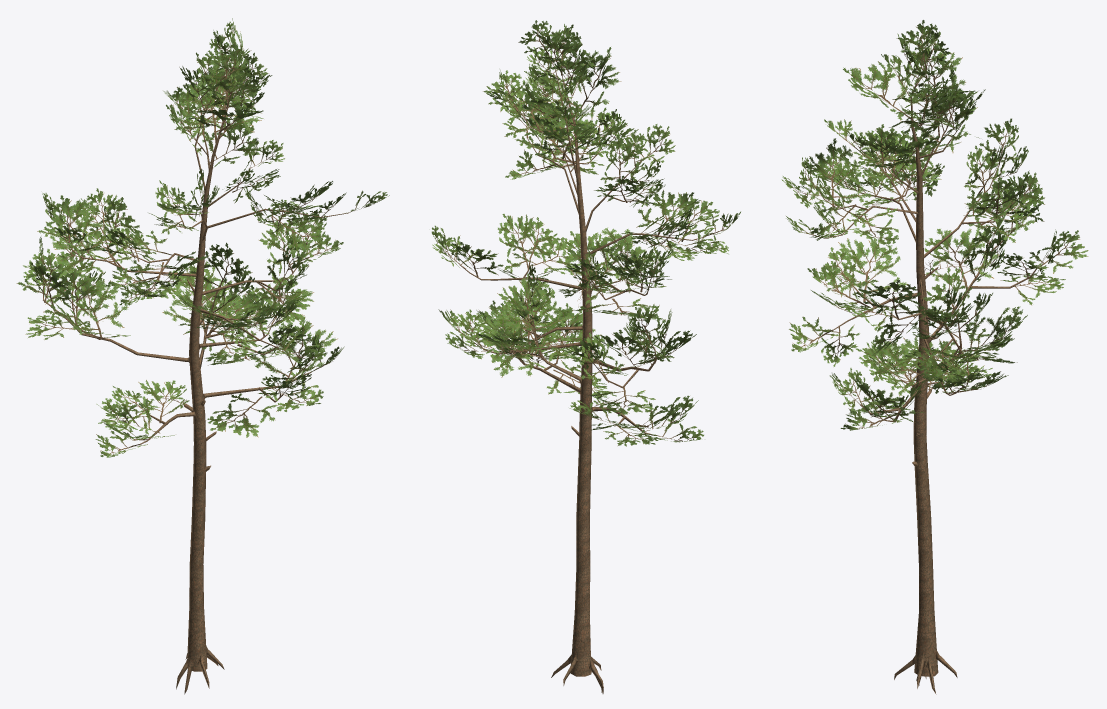
3 renders of one model, left to right at view 1: azimuth 30°, elevation 25°; view 2: azimuth 150°, elevation 25°; view 3: azimuth 270°, elevation 25°, orthographic. The views are drawn at different scales.
Visible parts, largest first — view 1: Pine_big_3_LOD2_Bark_Mat_0; view 2: Pine_big_3_LOD2_Bark_Mat_0; view 3: Pine_big_3_LOD2_Bark_Mat_0.
Boxes of the visible parts, box(x1,y1,x2,y2) form: Pine_big_3_LOD2_Bark_Mat_0: box(16, 18, 389, 694); Pine_big_3_LOD2_Bark_Mat_0: box(431, 20, 740, 693); Pine_big_3_LOD2_Bark_Mat_0: box(781, 20, 1088, 694).
Size of the model in its own units: 8.69 by 19.62 by 8.17.
